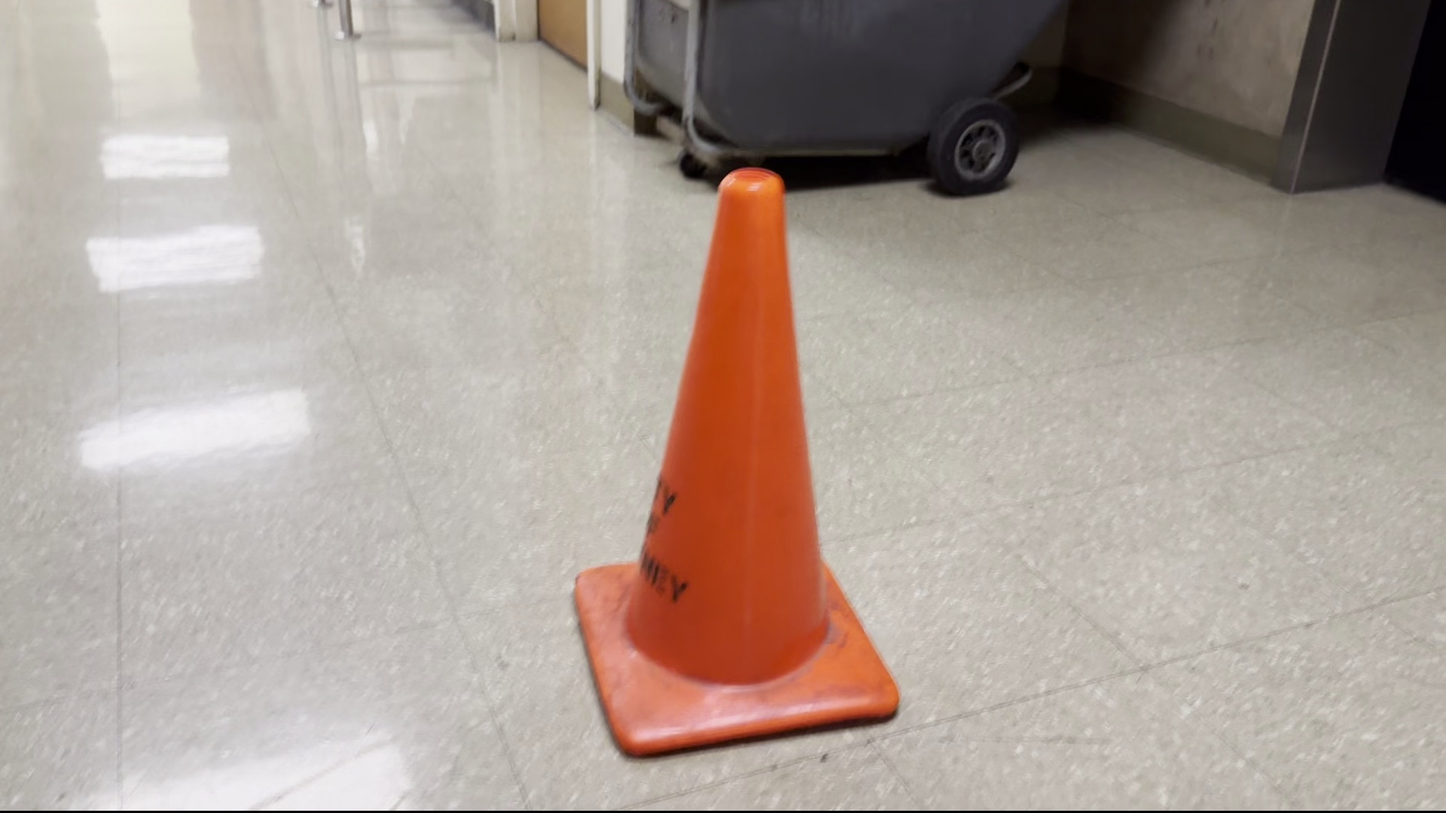traffic_cone: (572, 166, 901, 759)
